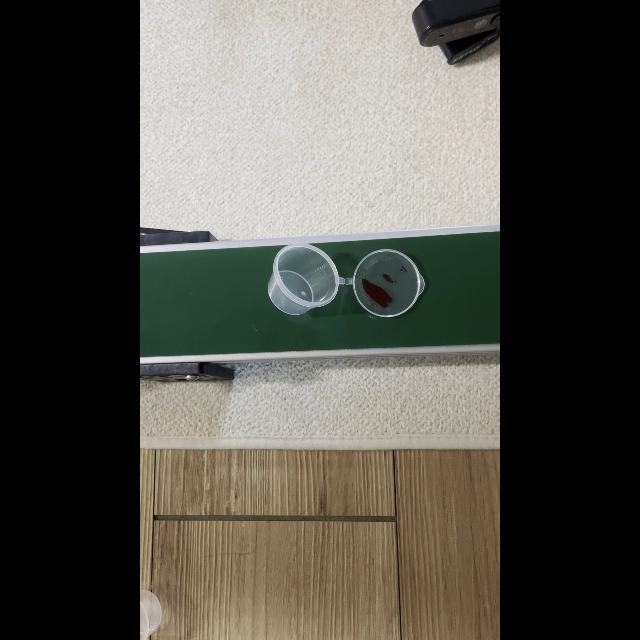dirty: (270, 244, 424, 318)
